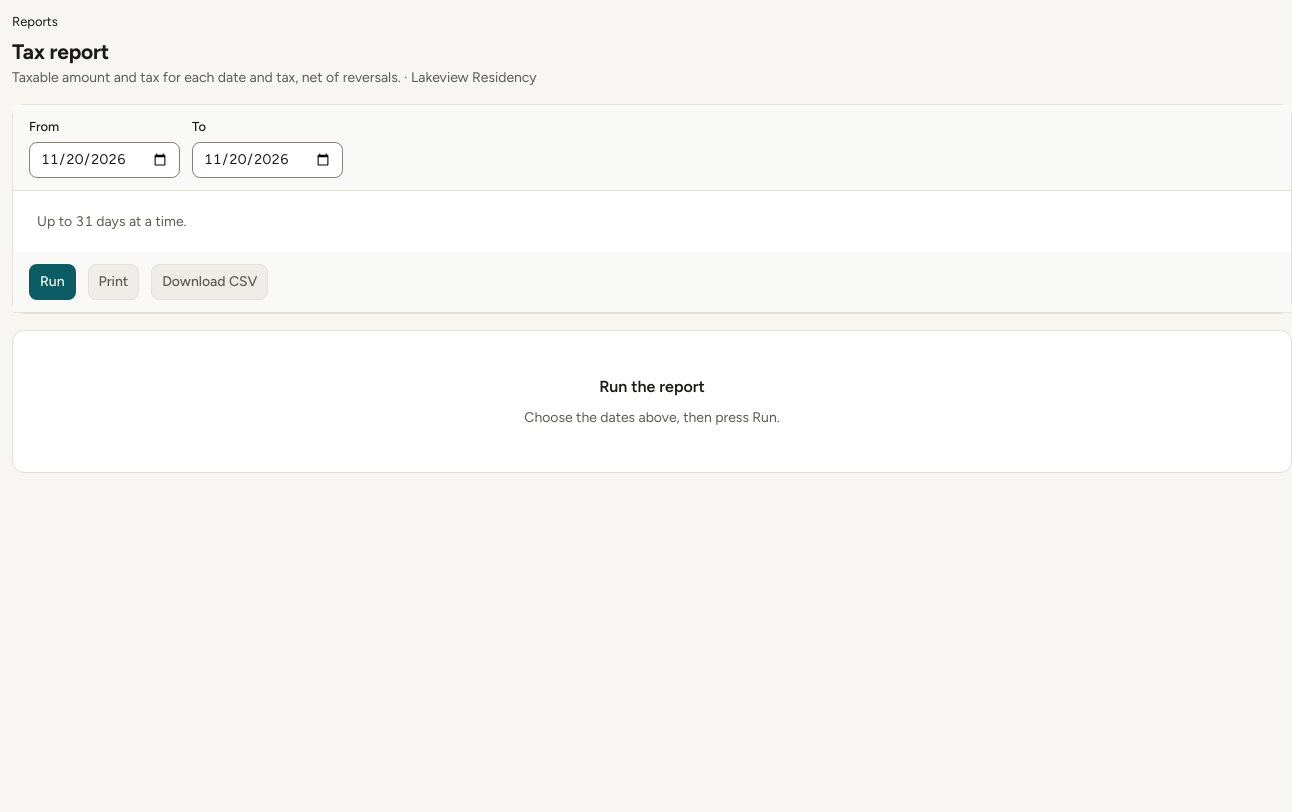
it: ReportRunnerScreen: Part B cashier and financial › reports without staff in them never ask who the viewer is
This screenshot has width=1292, height=812.
Expected: the date field labelled "From" holds "2026-11-20", [29,142,180,178]
What coordinates should you click on to do the following:
click the button with test id "report-run"
I would click on:
 (52, 282)
Its box is [29,264,76,300].
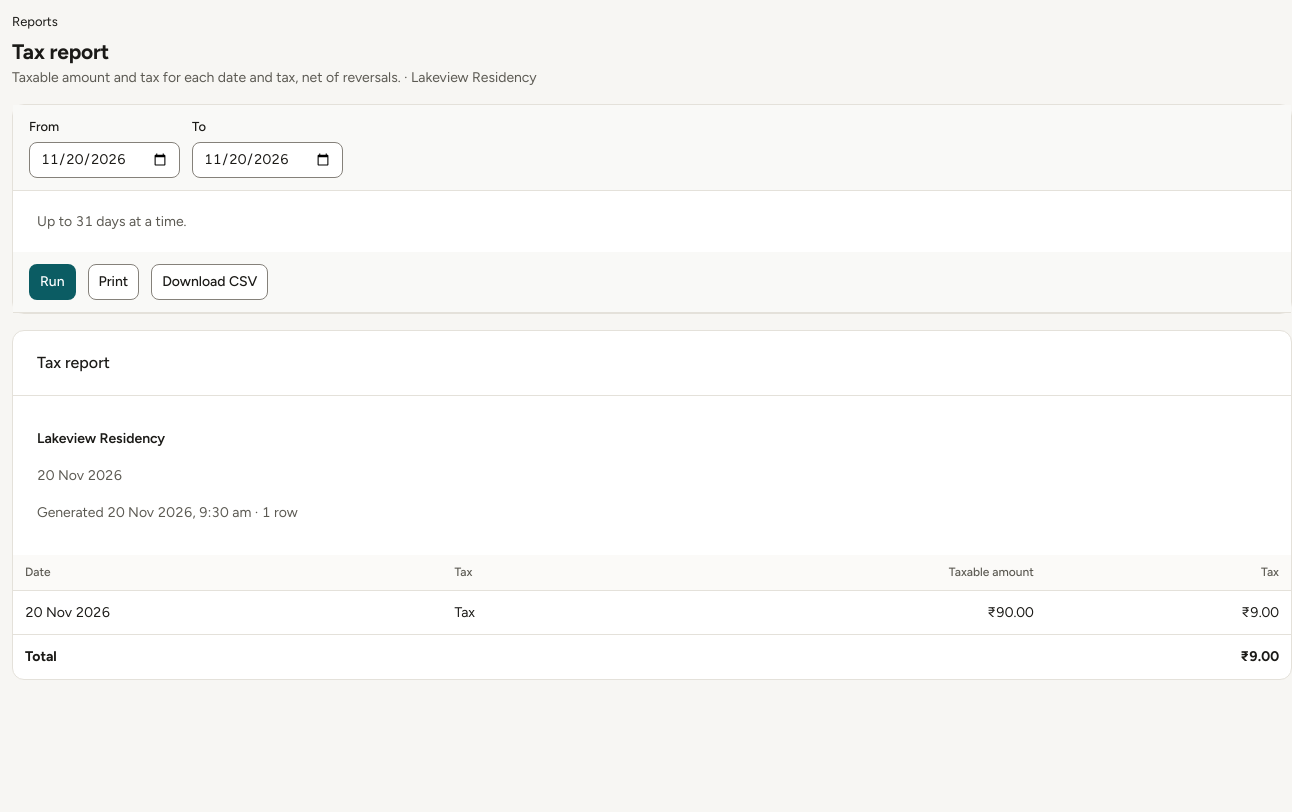
Result: the element with test id "report-card" is shown at [13,331,1291,679]
